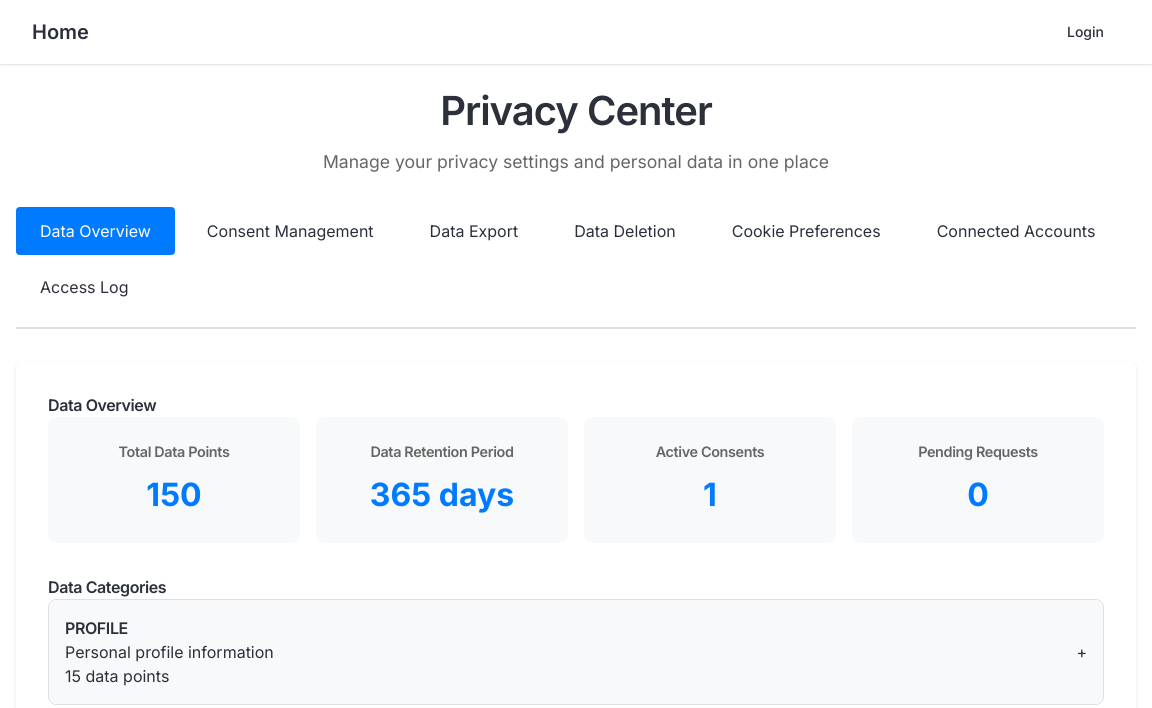
Test: PrivacyCenter Page › Data Deletion › should show deletion request button
Note: Switch to Data Deletion tab
What coordinates should you click on to do the following:
click the button "Data Deletion"
I would click on:
 (625, 231)
Its box is [550,207,700,255].
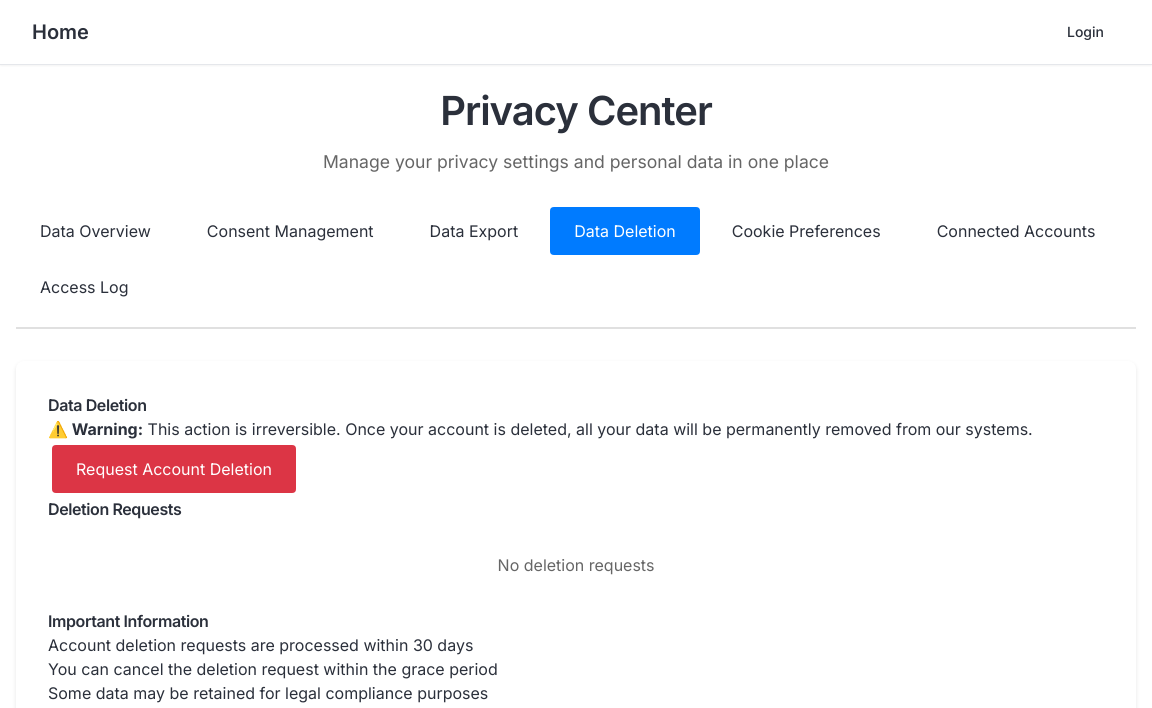
Now the button "Request Account Deletion" is shown, box [52,445,296,493]
